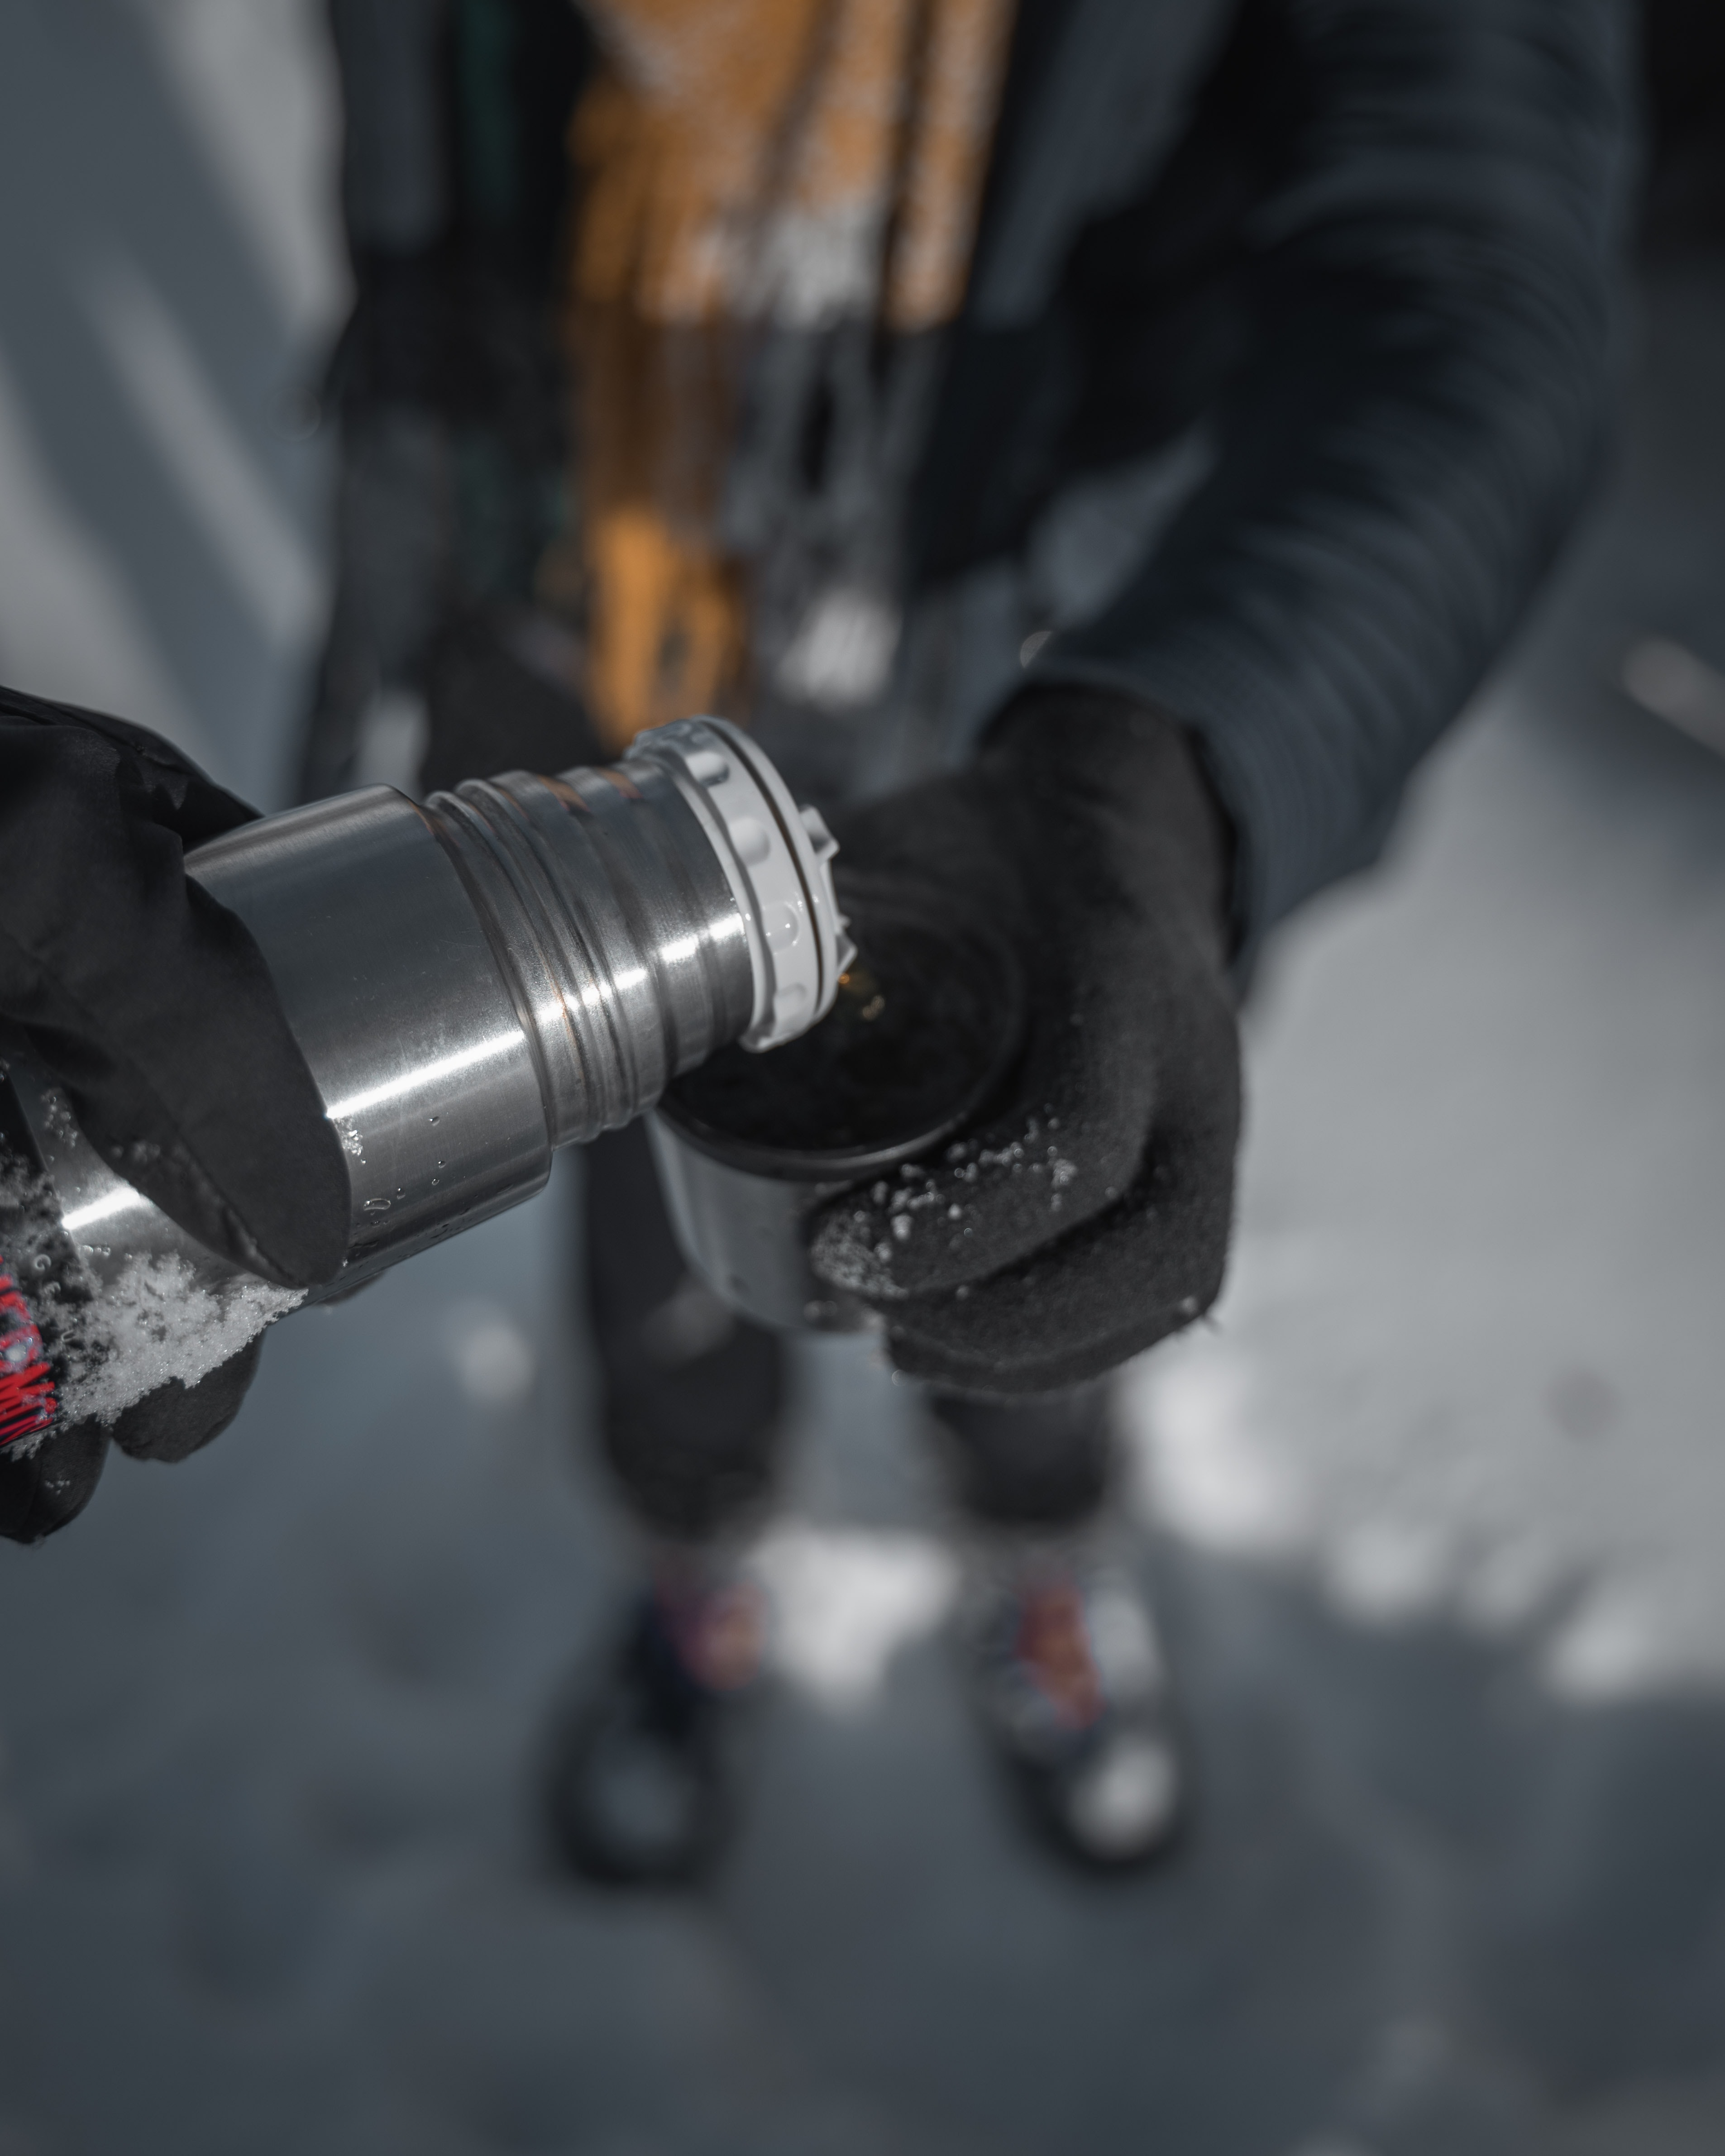Tumbler: (14, 672, 850, 1438)
